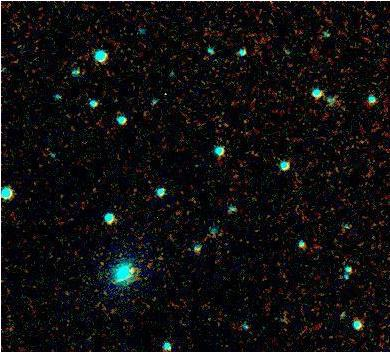star: (87, 246, 117, 276)
